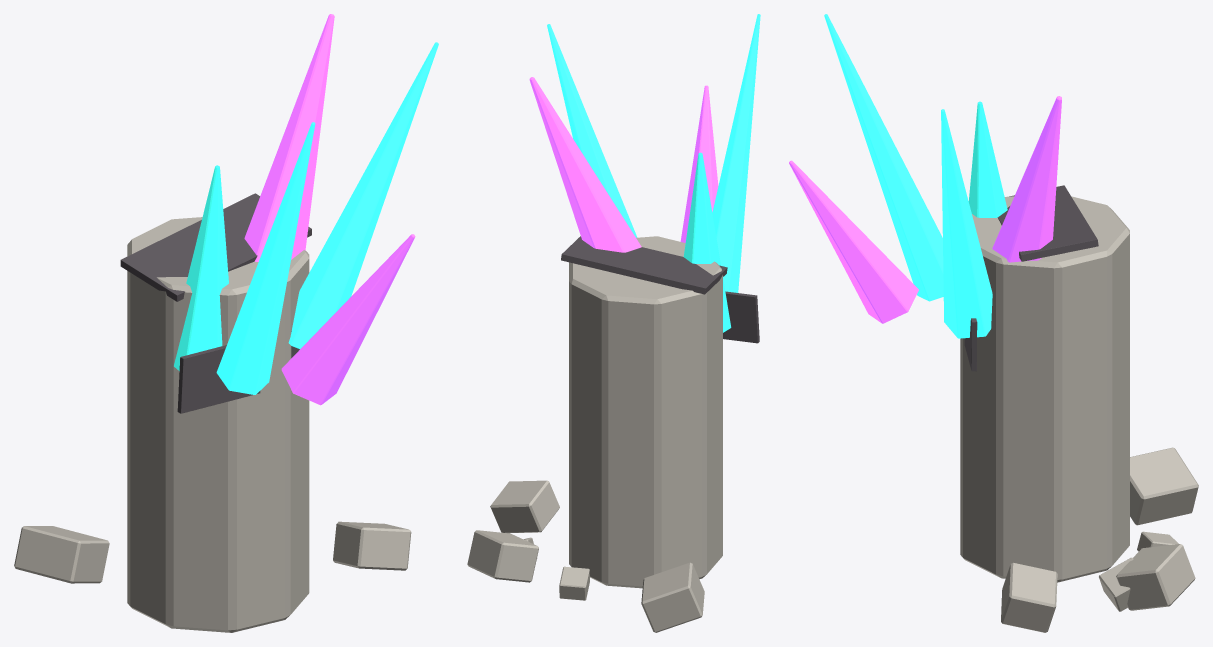
File: runtime.glb
3 renders of one model, left to right at view 1: azimuth 30°, elevation 25°; view 2: azimuth 150°, elevation 25°; view 3: azimuth 270°, elevation 25°, orthographic. The views are drawn at different scales.
Visible parts, largest first — view 1: crystal-ruins-crystal-growth-v03_host_column_nocol, crystal-ruins-crystal-growth-v03_crystal_00_nocol, crystal-ruins-crystal-growth-v03_crystal_03_nocol, crystal-ruins-crystal-growth-v03_crystal_04_nocol, crystal-ruins-crystal-growth-v03_crystal_01_nocol, crystal-ruins-crystal-growth-v03_crystal_02_nocol, crystal-ruins-crystal-growth-v03_fracture_00_nocol, crystal-ruins-crystal-growth-v03_stone_10_nocol, crystal-ruins-crystal-growth-v03_stone_14_nocol, crystal-ruins-crystal-growth-v03_fracture_01_nocol; view 2: crystal-ruins-crystal-growth-v03_host_column_nocol, crystal-ruins-crystal-growth-v03_crystal_01_nocol, crystal-ruins-crystal-growth-v03_crystal_03_nocol, crystal-ruins-crystal-growth-v03_fracture_00_nocol, crystal-ruins-crystal-growth-v03_stone_10_nocol, crystal-ruins-crystal-growth-v03_crystal_00_nocol, crystal-ruins-crystal-growth-v03_stone_14_nocol, crystal-ruins-crystal-growth-v03_stone_11_nocol, crystal-ruins-crystal-growth-v03_crystal_02_nocol, crystal-ruins-crystal-growth-v03_crystal_04_nocol, crystal-ruins-crystal-growth-v03_fracture_01_nocol, crystal-ruins-crystal-growth-v03_stone_13_nocol; view 3: crystal-ruins-crystal-growth-v03_host_column_nocol, crystal-ruins-crystal-growth-v03_crystal_03_nocol, crystal-ruins-crystal-growth-v03_crystal_00_nocol, crystal-ruins-crystal-growth-v03_crystal_04_nocol, crystal-ruins-crystal-growth-v03_crystal_01_nocol, crystal-ruins-crystal-growth-v03_stone_10_nocol, crystal-ruins-crystal-growth-v03_stone_11_nocol, crystal-ruins-crystal-growth-v03_stone_14_nocol, crystal-ruins-crystal-growth-v03_crystal_02_nocol, crystal-ruins-crystal-growth-v03_fracture_00_nocol, crystal-ruins-crystal-growth-v03_stone_12_nocol.
Part boxes in pixels (x1,y1,x2,y2): crystal-ruins-crystal-growth-v03_host_column_nocol: (127,217,309,632); crystal-ruins-crystal-growth-v03_crystal_00_nocol: (288,42,438,348); crystal-ruins-crystal-growth-v03_crystal_03_nocol: (216,122,315,394); crystal-ruins-crystal-growth-v03_crystal_04_nocol: (281,234,415,405); crystal-ruins-crystal-growth-v03_crystal_01_nocol: (244,14,334,261); crystal-ruins-crystal-growth-v03_crystal_02_nocol: (174,165,228,370); crystal-ruins-crystal-growth-v03_fracture_00_nocol: (120,193,311,301); crystal-ruins-crystal-growth-v03_stone_10_nocol: (14,526,109,583); crystal-ruins-crystal-growth-v03_stone_14_nocol: (333,521,411,570); crystal-ruins-crystal-growth-v03_fracture_01_nocol: (177,331,299,413); crystal-ruins-crystal-growth-v03_host_column_nocol: (569,236,722,588); crystal-ruins-crystal-growth-v03_crystal_01_nocol: (529,77,641,252); crystal-ruins-crystal-growth-v03_crystal_03_nocol: (712,14,760,292); crystal-ruins-crystal-growth-v03_fracture_00_nocol: (561,236,727,294); crystal-ruins-crystal-growth-v03_stone_10_nocol: (641,562,704,632); crystal-ruins-crystal-growth-v03_crystal_00_nocol: (547,24,637,237); crystal-ruins-crystal-growth-v03_stone_14_nocol: (490,480,559,533); crystal-ruins-crystal-growth-v03_stone_11_nocol: (467,530,538,582); crystal-ruins-crystal-growth-v03_crystal_02_nocol: (683,152,731,332); crystal-ruins-crystal-growth-v03_crystal_04_nocol: (680,85,718,242); crystal-ruins-crystal-growth-v03_fracture_01_nocol: (723,291,759,343); crystal-ruins-crystal-growth-v03_stone_13_nocol: (559,566,589,600); crystal-ruins-crystal-growth-v03_host_column_nocol: (960,196,1129,582); crystal-ruins-crystal-growth-v03_crystal_03_nocol: (824,14,943,301); crystal-ruins-crystal-growth-v03_crystal_00_nocol: (941,109,992,338); crystal-ruins-crystal-growth-v03_crystal_04_nocol: (789,160,918,323); crystal-ruins-crystal-growth-v03_crystal_01_nocol: (992,96,1061,262); crystal-ruins-crystal-growth-v03_stone_10_nocol: (1130,447,1198,525); crystal-ruins-crystal-growth-v03_stone_11_nocol: (1116,544,1195,610); crystal-ruins-crystal-growth-v03_stone_14_nocol: (1001,562,1057,632); crystal-ruins-crystal-growth-v03_crystal_02_nocol: (968,101,1007,217); crystal-ruins-crystal-growth-v03_fracture_00_nocol: (997,185,1098,261); crystal-ruins-crystal-growth-v03_stone_12_nocol: (1099,557,1133,611).
Size of the model in its own units: 4.5 by 7.88 by 5.48.
